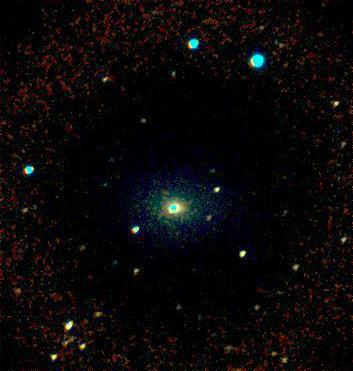star: (155, 198, 185, 228)
